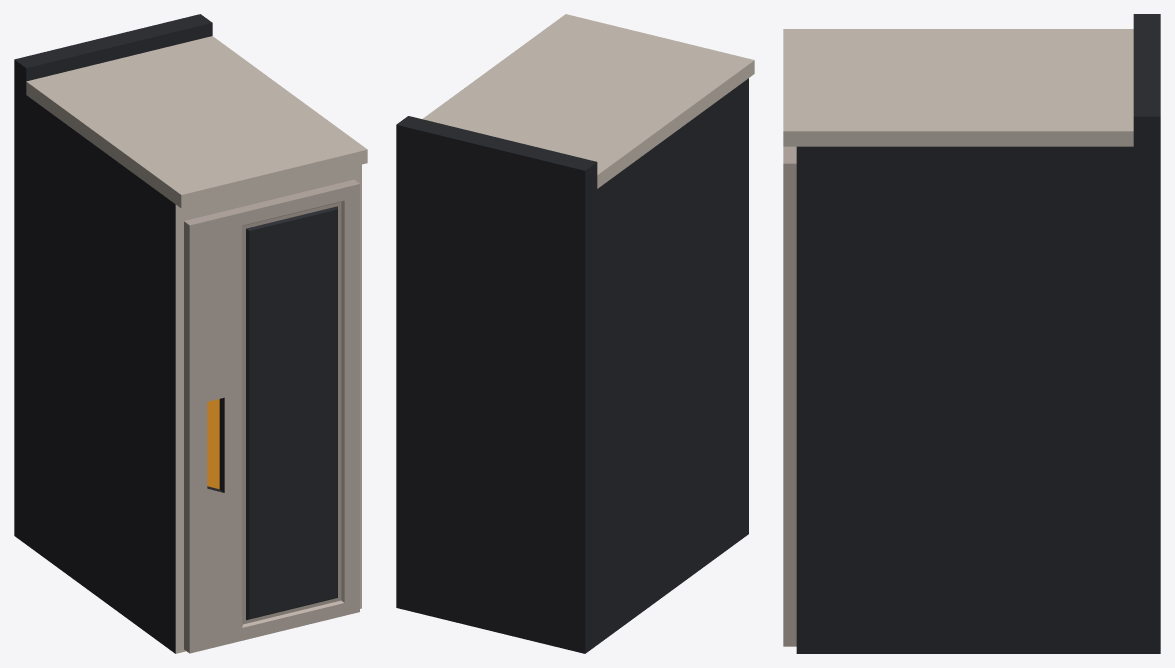
Rendered from SM_Floor_Locker_01.glb.
The picture shows the model from 3 angles, left to right: view 1: azimuth 30°, elevation 25°; view 2: azimuth 150°, elevation 25°; view 3: azimuth 270°, elevation 25°; orthographic projection. The views are drawn at different scales.
Parts seen in each view (by area): view 1: SM_Floor_Locker_01; view 2: SM_Floor_Locker_01; view 3: SM_Floor_Locker_01.
Part boxes in pixels (x1=…): SM_Floor_Locker_01: x1=14, y1=14, x2=367, y2=653; SM_Floor_Locker_01: x1=396, y1=14, x2=754, y2=653; SM_Floor_Locker_01: x1=783, y1=14, x2=1160, y2=653.
Size of the model in its own units: 0.4 by 0.9771 by 0.622.
1 material, 1 textured.
